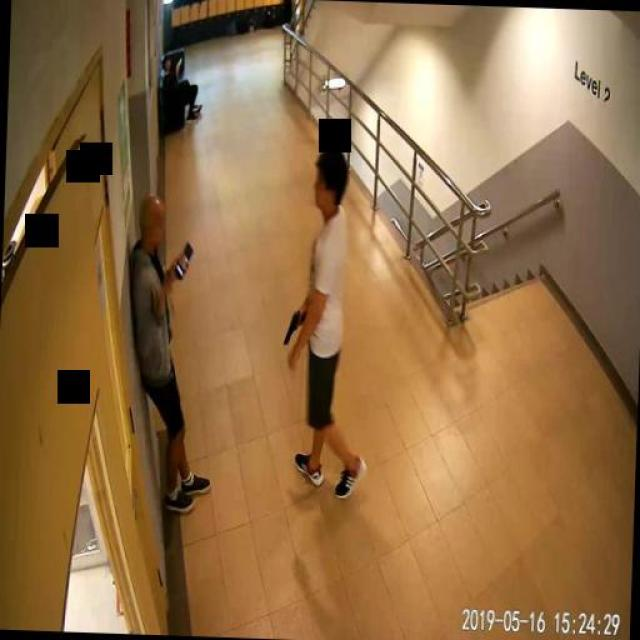gun: (281, 306, 305, 342)
